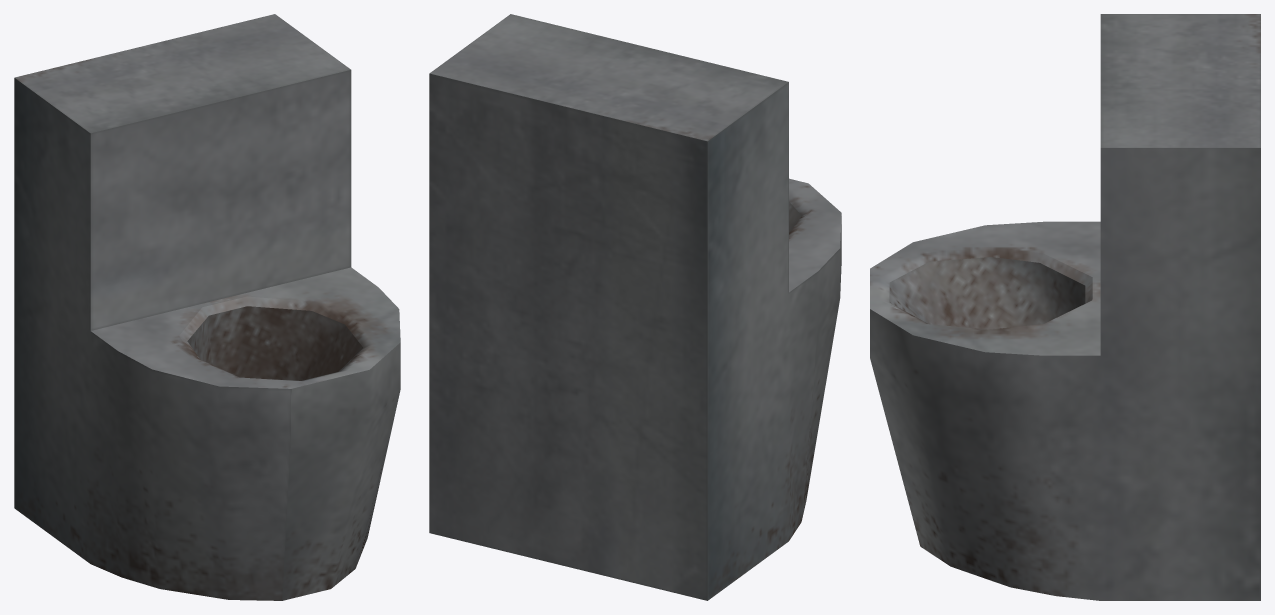
Rendered from Toilet.fbx.
The picture shows the model from 3 angles, left to right: view 1: azimuth 30°, elevation 25°; view 2: azimuth 150°, elevation 25°; view 3: azimuth 270°, elevation 25°; orthographic projection. The views are drawn at different scales.
Parts seen in each view (by area): view 1: Toilet; view 2: Toilet; view 3: Toilet.
Part boxes in pixels (box(x1,y1,x2,y2)): Toilet: box(14, 14, 400, 600); Toilet: box(429, 14, 841, 600); Toilet: box(870, 14, 1260, 600).
Size of the model in its own units: 49.81 by 78.62 by 61.46.
